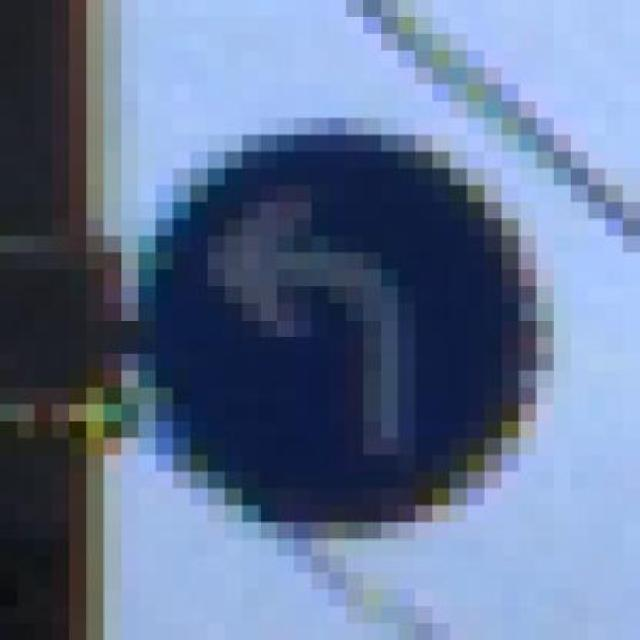Turn left ahead: (120, 101, 572, 539)
